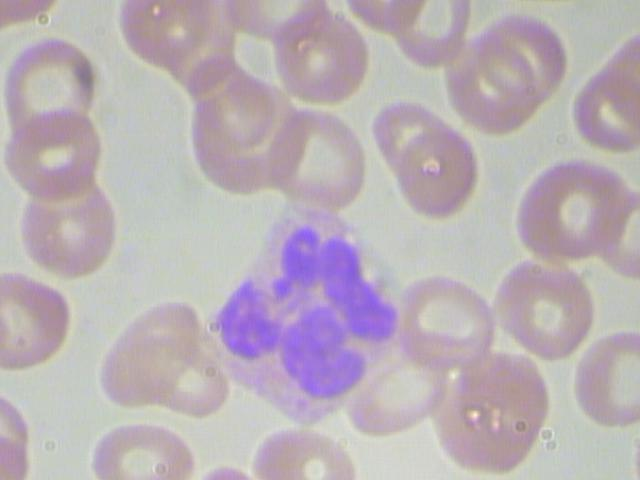RBC: (90, 296, 200, 414), (261, 104, 371, 222), (12, 173, 122, 283), (488, 253, 596, 359), (383, 124, 491, 230), (264, 6, 371, 108), (0, 31, 109, 130), (0, 107, 110, 200), (399, 267, 494, 371)
WBC: (195, 204, 412, 433)
